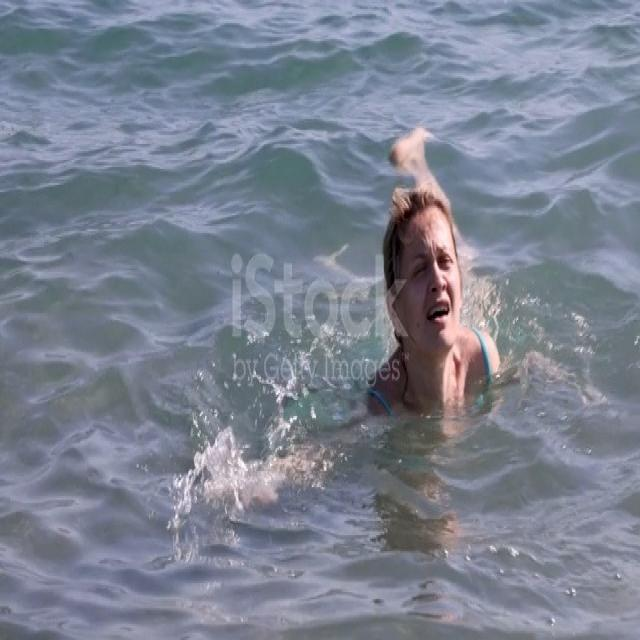Out of Water: (365, 114, 497, 454)
